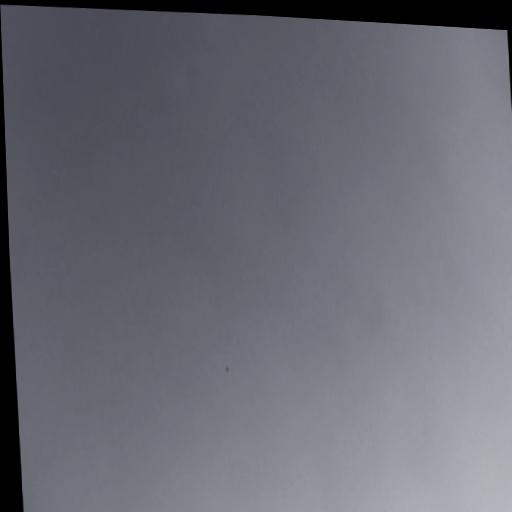drones: (224, 365, 229, 373)
